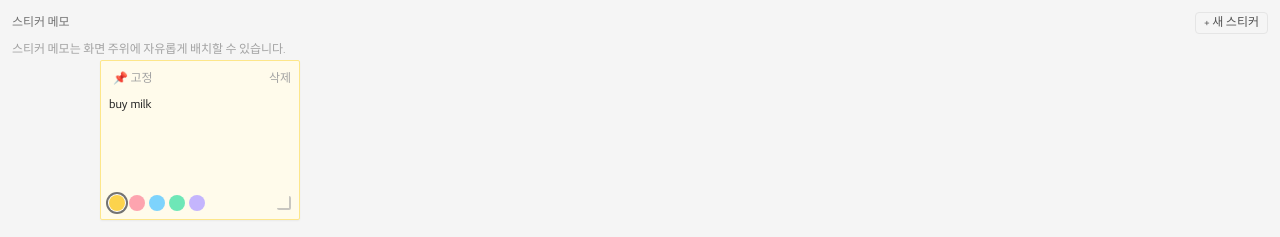
it: StickyNotesView › resizing › restores the last persisted dimensions and reports an error if saving fails
This screenshot has width=1280, height=237.
Press the mouse on the element with test id "sticky-note-resize-s1" at (284, 203), box [277,196,291,210]
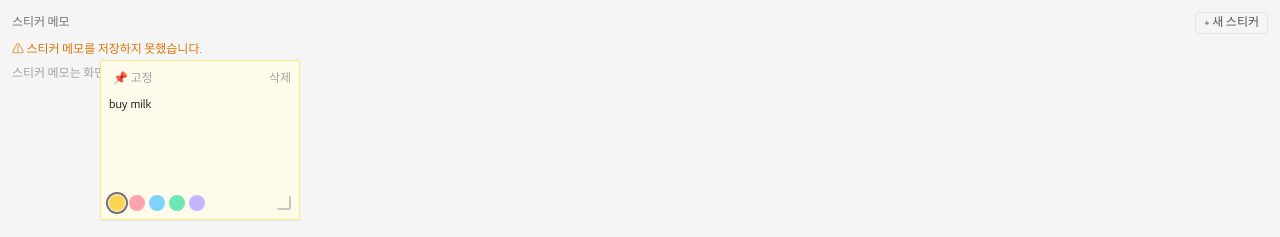
Expected: the message "⚠ 스티커 메모를 저장하지 못했습니다." is shown, [12,44,202,56]
